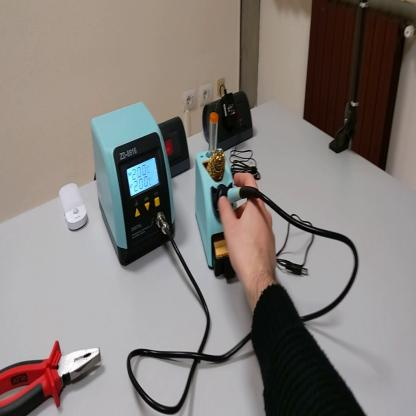hand: (219, 175, 279, 297)
pliers: (2, 344, 103, 415)
socket: (202, 83, 256, 151), (157, 114, 191, 180)
welder base: (194, 108, 239, 278)
welder probe tip: (214, 184, 260, 211)
welder station: (89, 102, 175, 271)
